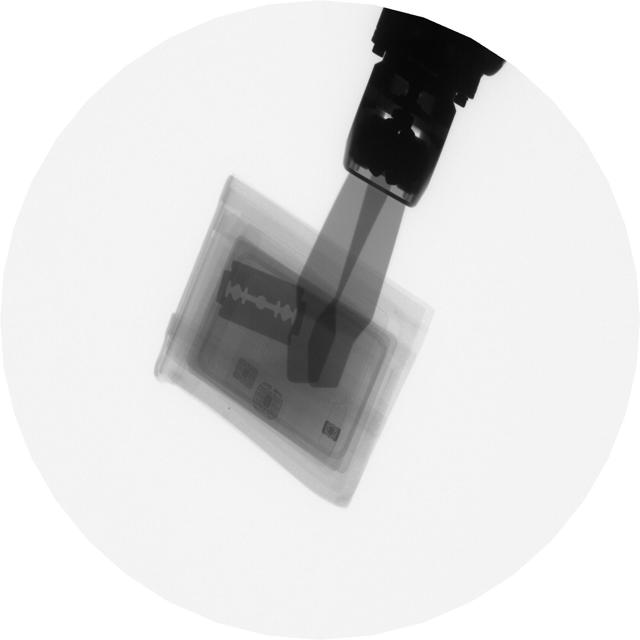razor: (218, 251, 316, 353)
